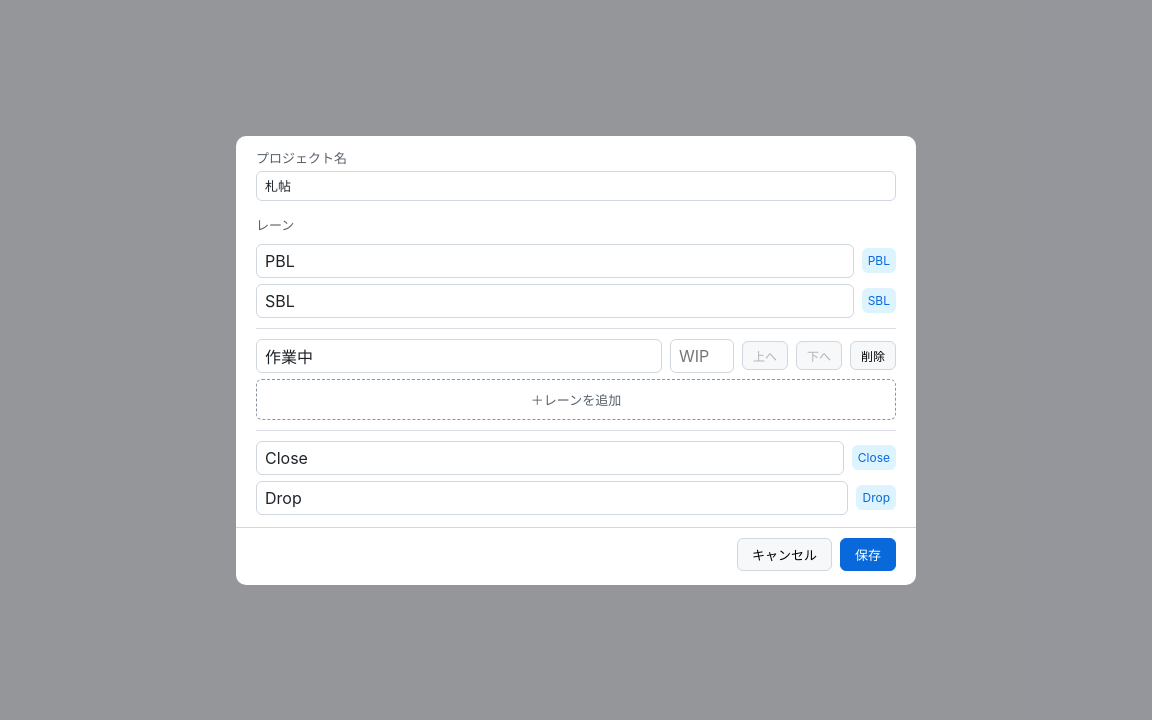
Scenario: SettingsDialog › 保存が失敗した場合はエラーメッセージを表示して閉じない
Click the button "保存" at point(868, 554), box 840,538 -> 896,570
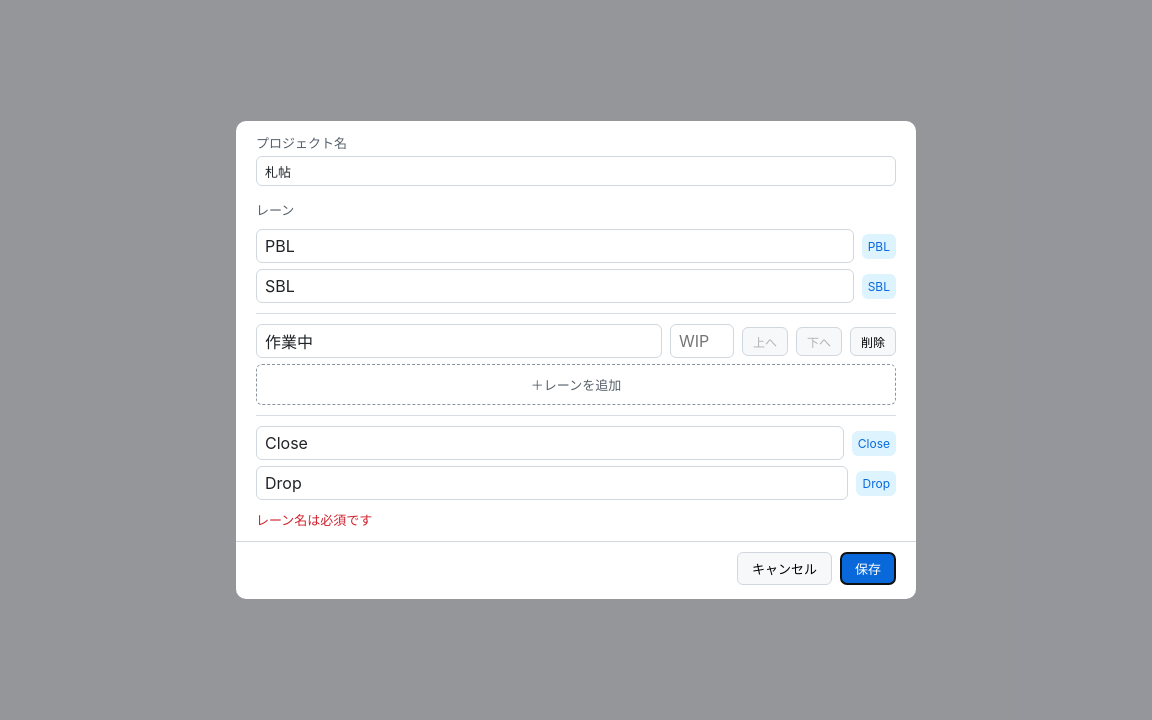
Now the text "レーン名は必須です" is shown, box 256,512 -> 372,528
